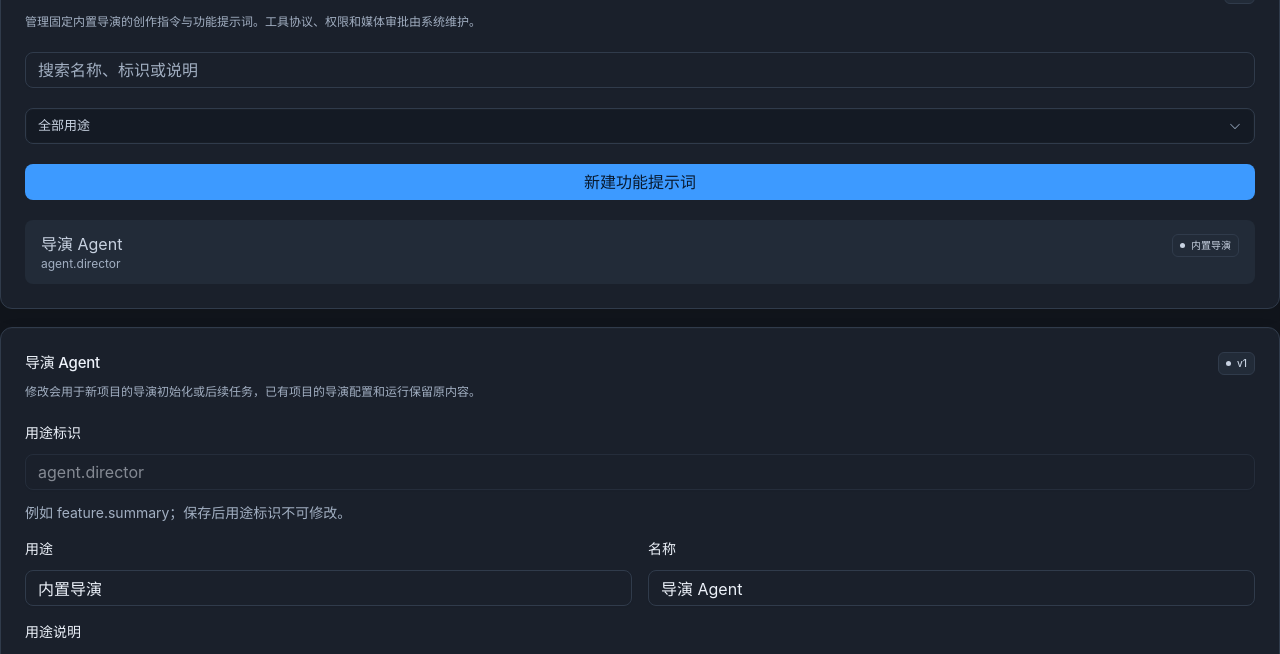
Test: PromptManagementSection › keeps a new prompt draft after a duplicate key and allows correcting that key
The width and height of the screenshot is (1280, 654).
Step 1. Click the button "新建功能提示词" → (640, 182), box x1=25 y1=164 x2=1255 y2=200
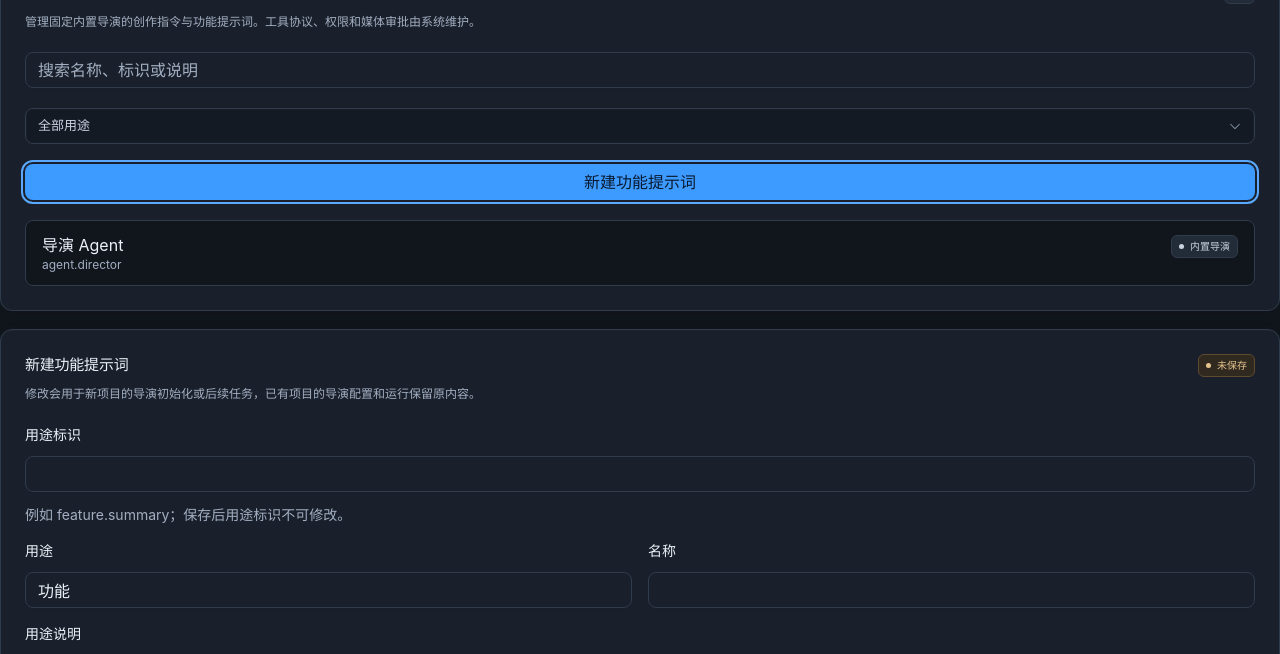
Step 2. Type "text.generate" into the field labelled "用途标识" → (640, 474), box x1=25 y1=456 x2=1255 y2=492
Step 3. Type "Writer" into the field labelled "名称" → (952, 590), box x1=648 y1=572 x2=1255 y2=608
(page scrolled)
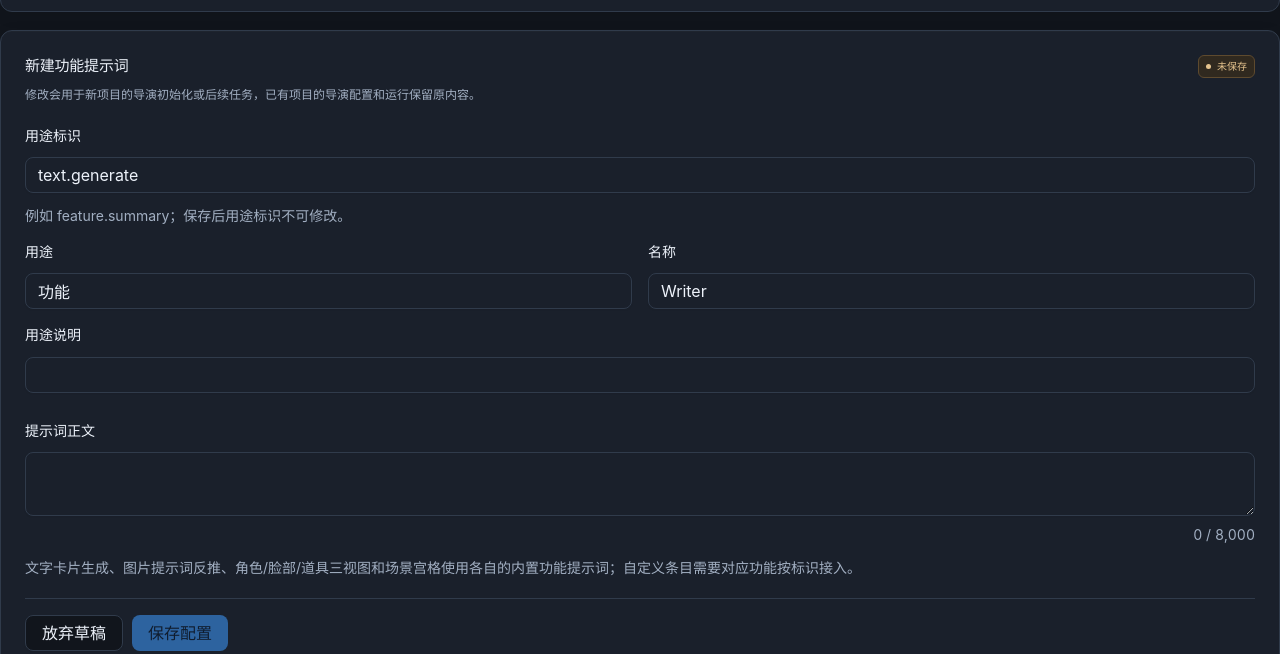
Step 4. Type "Write" into the text box labelled "提示词正文" → (640, 484), box x1=25 y1=452 x2=1255 y2=516
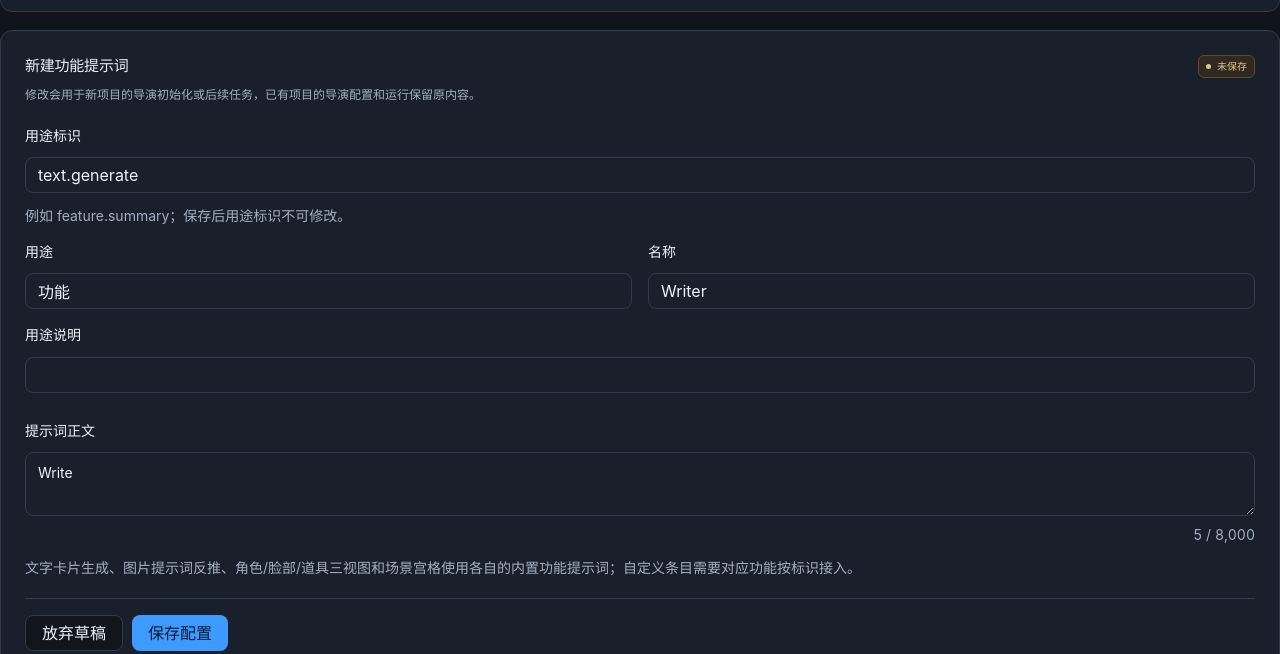
Step 5. Click the button "保存配置" → (180, 633), box x1=132 y1=615 x2=228 y2=651
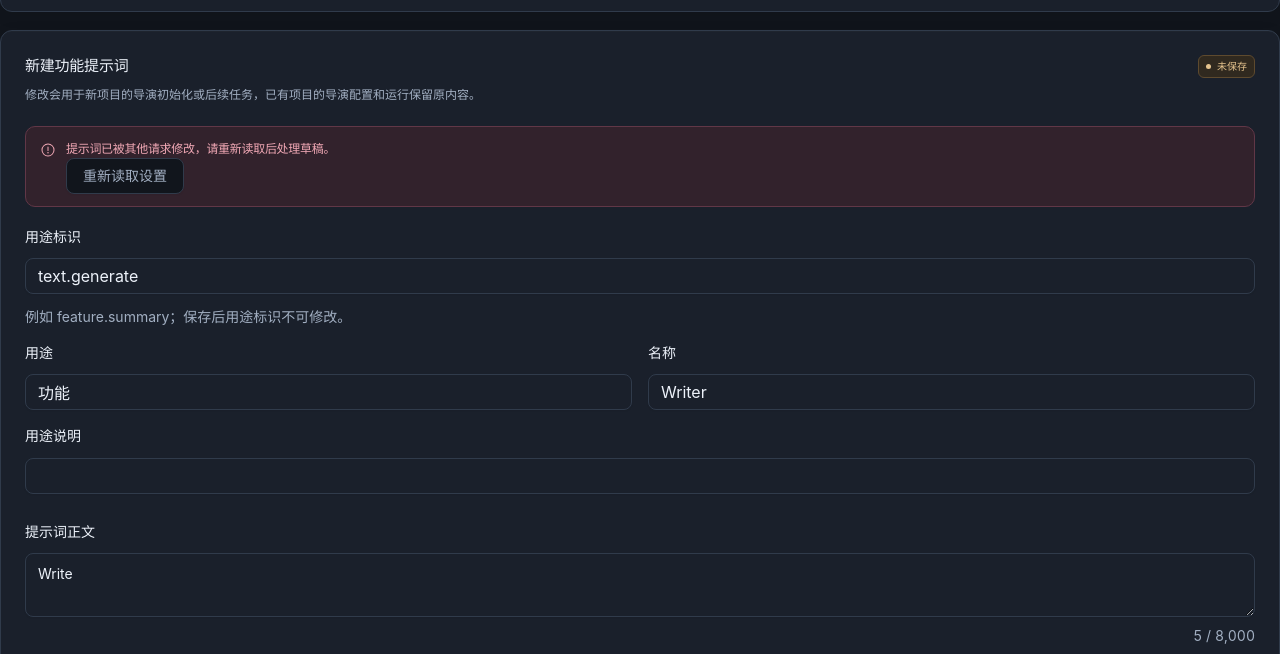
Result: the message "提示词已被其他请求修改，请重新读取后处理草稿。 重新读取设置" is shown at x1=25 y1=126 x2=1255 y2=207
Step 6. Replace the text in the field labelled "用途标识" with "feature.writer" → (640, 276), box x1=25 y1=258 x2=1255 y2=294
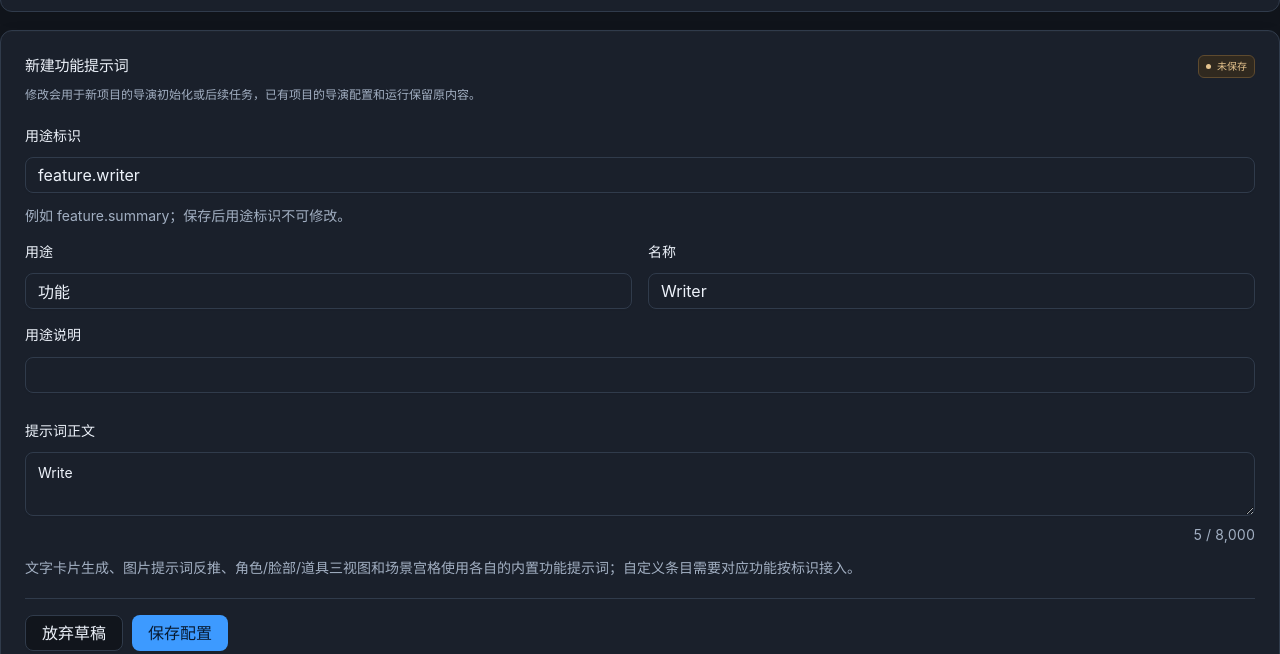
Step 7. Click the button "保存配置" → (180, 633), box x1=132 y1=615 x2=228 y2=651
(page scrolled)
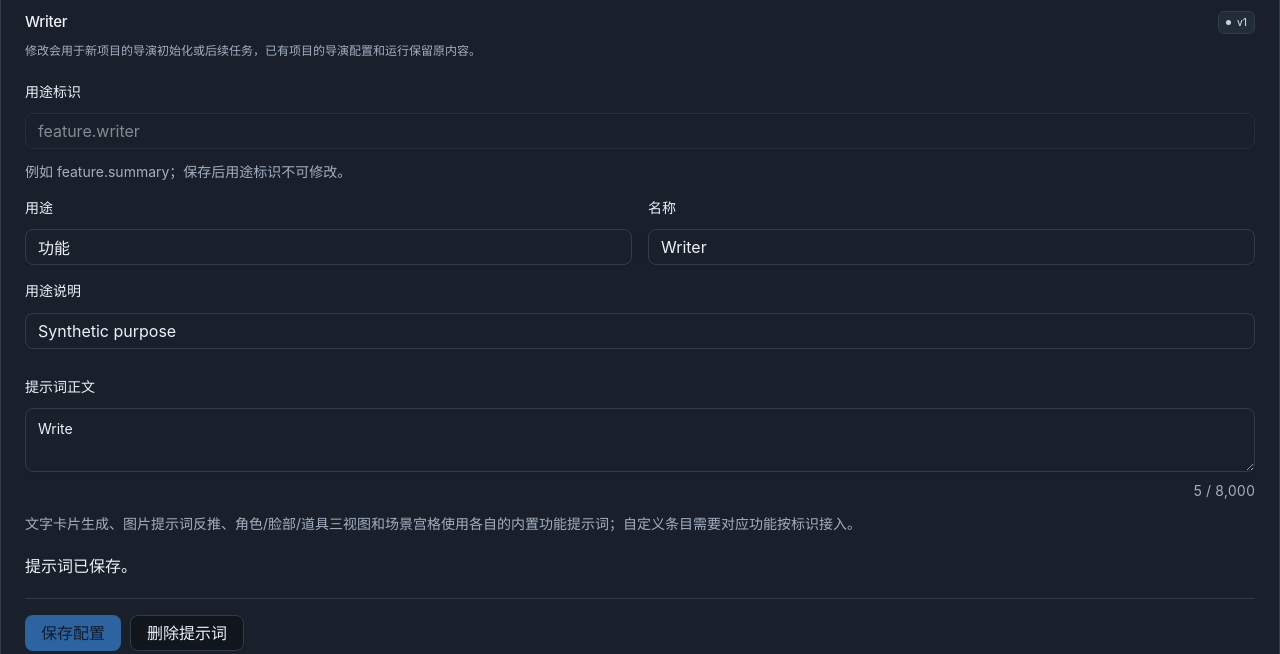
Result: the text "提示词已保存。" is shown at x1=25 y1=556 x2=137 y2=576
